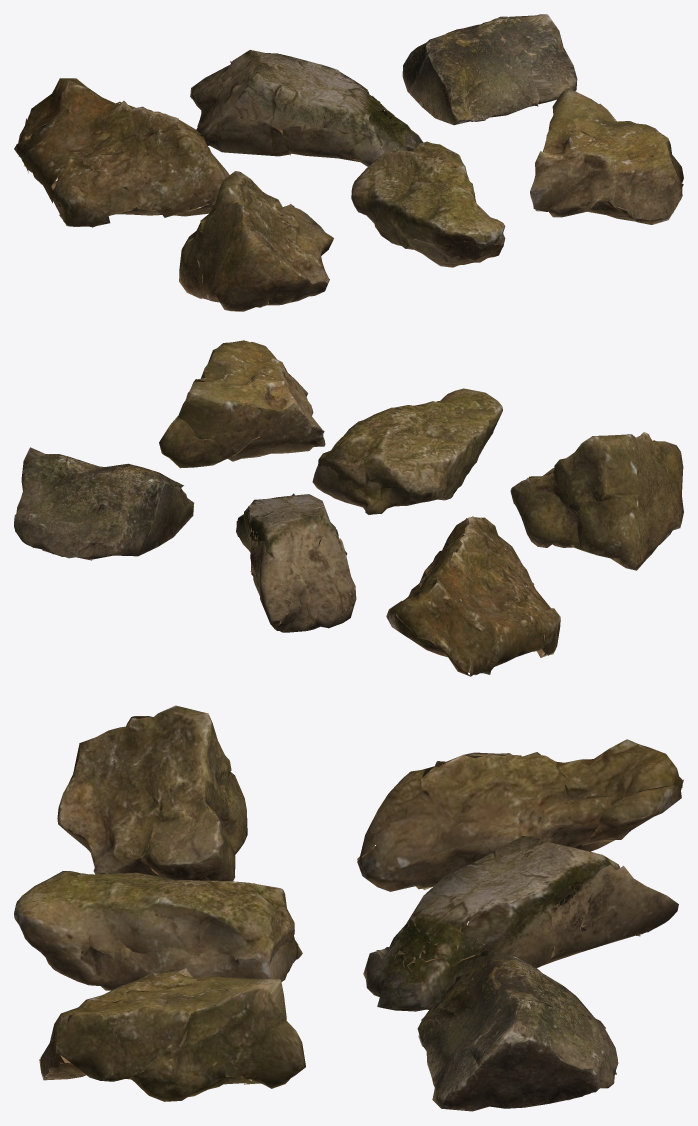
Rendered from rock_moss_set_01.glb.
3 renders of one model, top to bottom at view 1: azimuth 30°, elevation 25°; view 2: azimuth 150°, elevation 25°; view 3: azimuth 270°, elevation 25°, orthographic. The views are drawn at different scales.
Parts seen in each view (by area): view 1: rock_moss_set_01_rock01, rock_moss_set_01_rock02, rock_moss_set_01_rock06, rock_moss_set_01_rock04, rock_moss_set_01_rock03, rock_moss_set_01_rock05; view 2: rock_moss_set_01_rock04, rock_moss_set_01_rock01, rock_moss_set_01_rock05, rock_moss_set_01_rock03, rock_moss_set_01_rock06, rock_moss_set_01_rock02; view 3: rock_moss_set_01_rock01, rock_moss_set_01_rock02, rock_moss_set_01_rock05, rock_moss_set_01_rock04, rock_moss_set_01_rock06, rock_moss_set_01_rock03.
Boxes of the visible parts, bbox=[...] form: rock_moss_set_01_rock01: bbox=[14, 78, 229, 227]; rock_moss_set_01_rock02: bbox=[190, 50, 423, 166]; rock_moss_set_01_rock06: bbox=[530, 88, 683, 224]; rock_moss_set_01_rock04: bbox=[179, 171, 333, 311]; rock_moss_set_01_rock03: bbox=[402, 14, 577, 125]; rock_moss_set_01_rock05: bbox=[351, 141, 505, 267]; rock_moss_set_01_rock04: bbox=[510, 432, 683, 570]; rock_moss_set_01_rock01: bbox=[386, 516, 560, 676]; rock_moss_set_01_rock05: bbox=[312, 388, 502, 514]; rock_moss_set_01_rock03: bbox=[14, 447, 194, 560]; rock_moss_set_01_rock06: bbox=[159, 340, 325, 468]; rock_moss_set_01_rock02: bbox=[236, 493, 356, 632]; rock_moss_set_01_rock01: bbox=[357, 739, 683, 891]; rock_moss_set_01_rock02: bbox=[363, 836, 678, 1011]; rock_moss_set_01_rock05: bbox=[14, 871, 302, 990]; rock_moss_set_01_rock04: bbox=[57, 705, 247, 881]; rock_moss_set_01_rock06: bbox=[39, 968, 305, 1101]; rock_moss_set_01_rock03: bbox=[417, 956, 618, 1111].
Bounding box in the file's own units: 8.01 × 1.77 × 6.95.
1 material, 1 textured.
